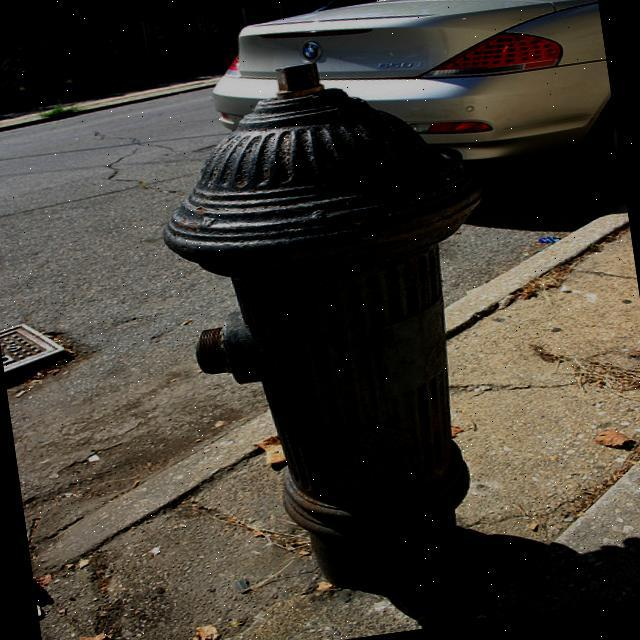fire_hydrant: (156, 35, 536, 618)
